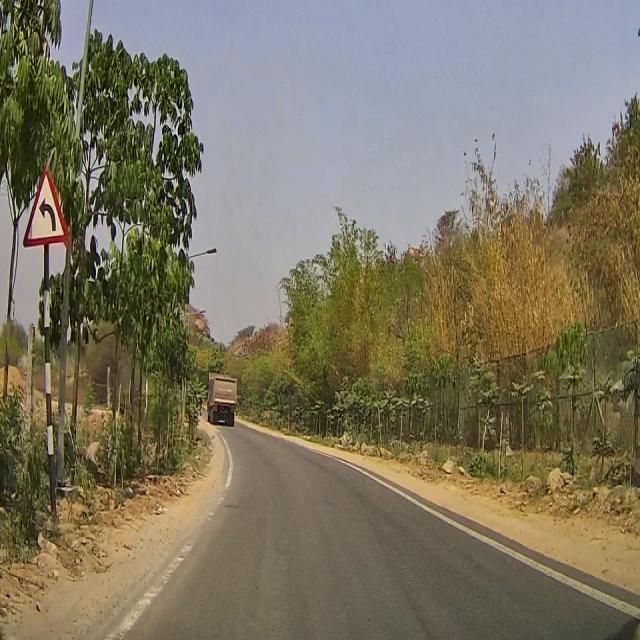left-hand-curve: (23, 160, 68, 247)
